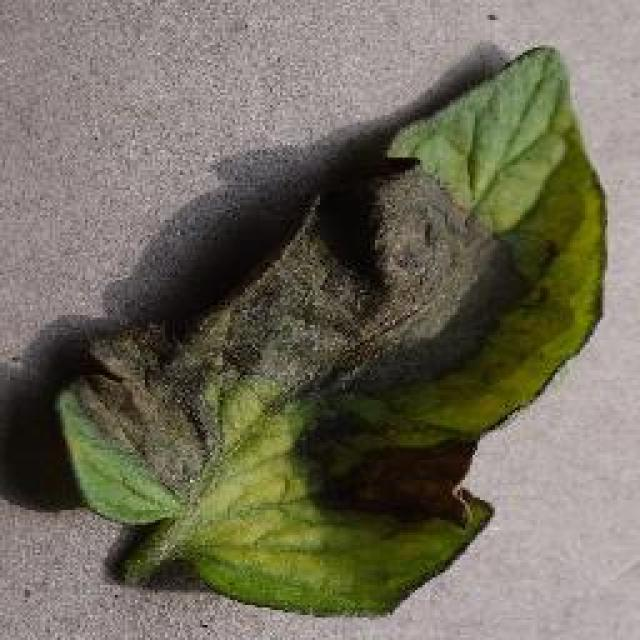Tomato Late Blight: (70, 153, 507, 507)
